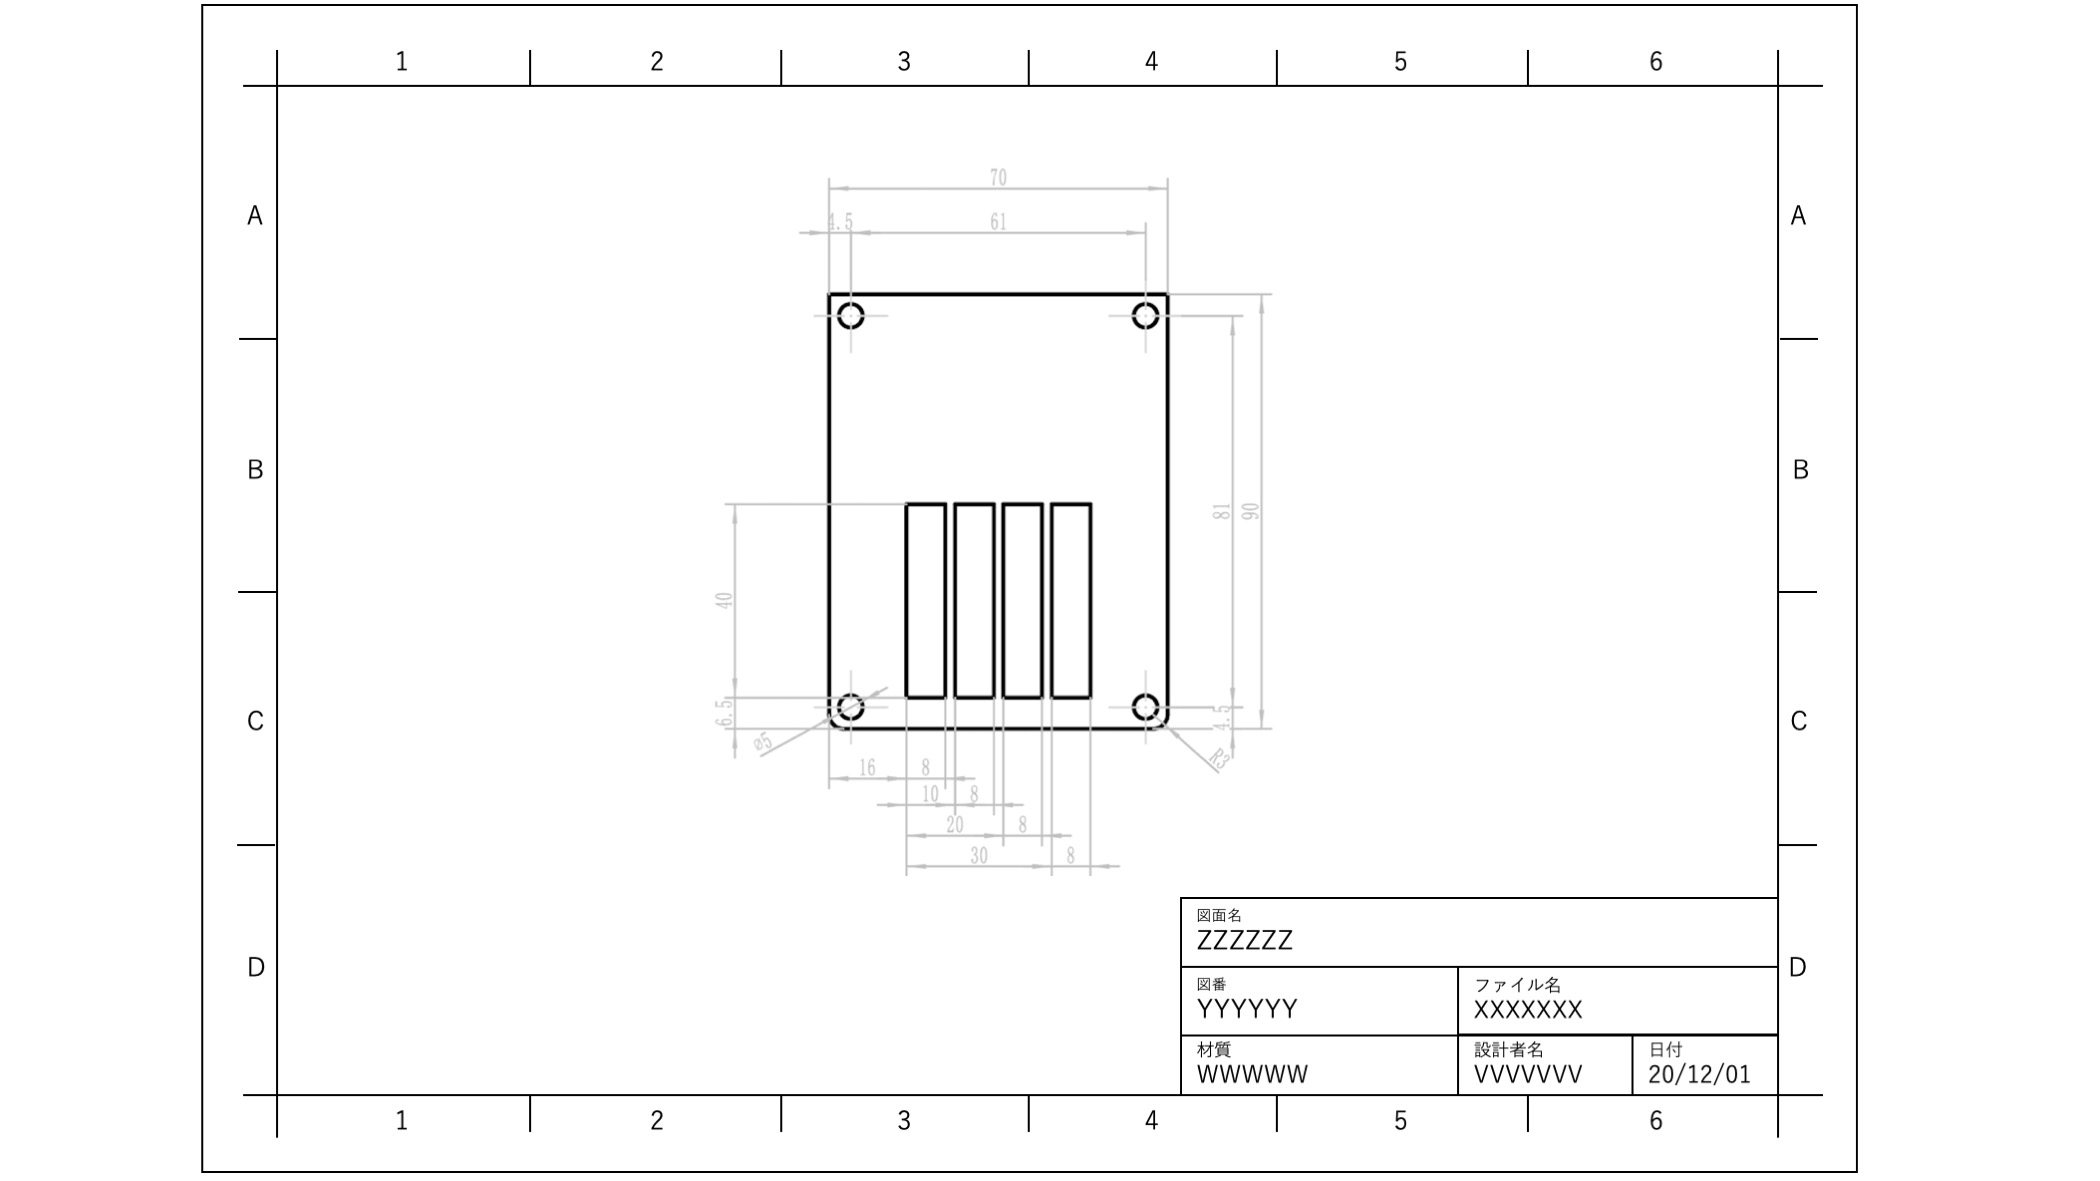circle: (1129, 684, 1161, 720), (834, 294, 861, 335), (837, 685, 873, 715), (1125, 301, 1162, 324)
rectangle: (1049, 477, 1100, 724), (1005, 479, 1049, 731), (953, 482, 1000, 715), (901, 486, 948, 707)
